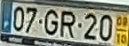0: (99, 13, 113, 42), (12, 5, 25, 31)
2: (82, 12, 97, 40)
7: (25, 6, 38, 33)
G: (43, 8, 59, 36)
R: (59, 9, 76, 39)
